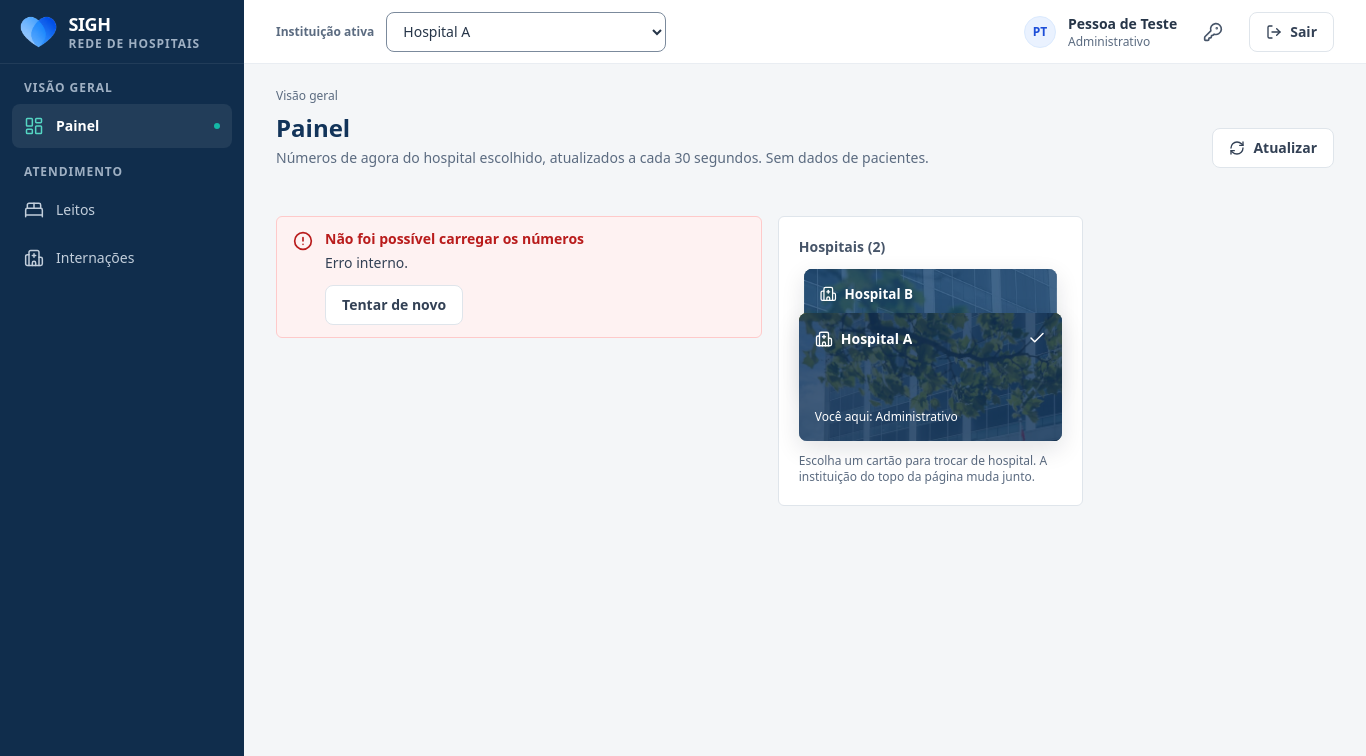
it: FE-09: painel por hospital › falha da API: alerta com "Tentar de novo", que pede de novo
Check: the text "Não foi possível carregar os números" is shown, box [325,229,584,248]
Click the button "Tentar de novo" at [394, 305], box [325,285,463,325]
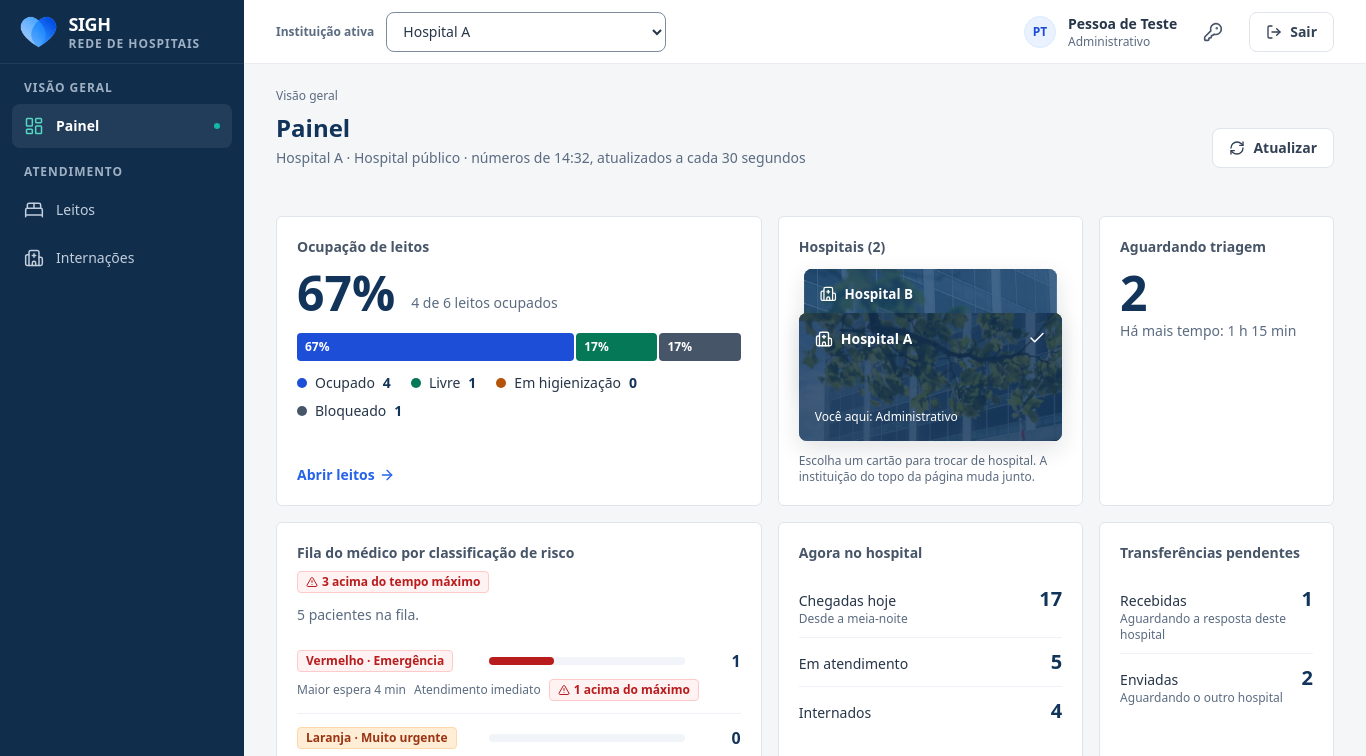
Check: the text "67%" next to "4 de 6 leitos ocupados" is shown, box [297,260,395,325]
